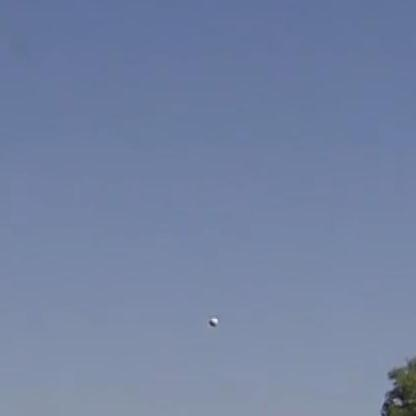golfball: (207, 316, 217, 325)
